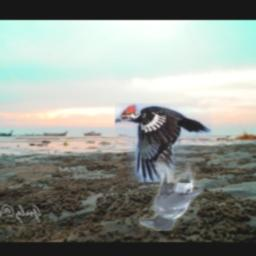Crow: (138, 163, 203, 232)
Woodpecker: (114, 104, 210, 183)
